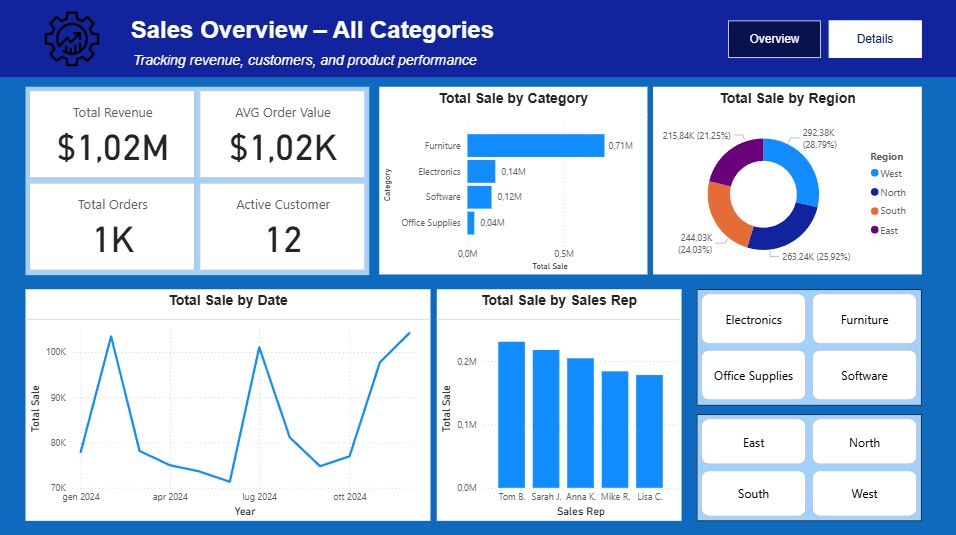

This screenshot's page, from the dashboard's own definition file:
{"tool":"powerbi","page":{"name":"Overview","canvas":[1280,720],"ordinal":0},"visuals":[{"type":"textbox","box":[10,0,280,280],"z":1000},{"type":"shape","box":[0,0,1279.7,106.8],"z":1500},{"type":"shape","box":[0,106.8,1279.7,613.2],"z":2000},{"type":"cardVisual","fields":{"Data":["SalesUS.Total Revenue","SalesUS.AVG Order Value","SalesUS.Total Orders","SalesUS.Total Customer"]},"box":[36.2,117.5,458.8,251.2],"z":3000},{"type":"lineChart","fields":{"Category":["SalesUS.date.Variation.Date Hierarchy.Year","SalesUS.date.Variation.Date Hierarchy.Quarter","SalesUS.date.Variation.Date Hierarchy.Month"],"Y":["Sum(SalesUS.total_sale)"]},"box":[36.2,428.8,540,268.8],"z":4000},{"type":"clusteredBarChart","fields":{"Y":["Sum(SalesUS.total_sale)"],"Category":["SalesUS.category"]},"box":[507.5,155,357.5,213.8],"z":5000},{"type":"donutChart","fields":{"Y":["Sum(SalesUS.total_sale)"],"Category":["SalesUS.region"]},"box":[872.5,155,358.8,213.8],"z":6000},{"type":"clusteredColumnChart","fields":{"Category":["SalesUS.sales_rep"],"Y":["Sum(SalesUS.total_sale)"]},"box":[585,428.8,326.2,268.8],"z":7000},{"type":"advancedSlicerVisual","fields":{"Values":["SalesUS.category"]},"box":[931.2,388.8,300,155],"z":8000},{"type":"advancedSlicerVisual","fields":{"Values":["SalesUS.region"]},"box":[931.2,555,300,142.5],"z":9000},{"type":"textbox","box":[174.6,67.8,479,34.6],"z":10000},{"type":"textbox","box":[585,388.8,326.2,40],"z":11000},{"type":"image","box":[36.1,13,124.1,82.2],"z":12000},{"type":"textbox","box":[36.2,388.8,540,40],"z":13000},{"type":"textbox","box":[507.5,117.5,357.5,37.5],"z":14000},{"type":"textbox","box":[872.5,117.5,358.8,37.5],"z":15000},{"type":"cardVisual","fields":{"Data":["SalesUS.Dynamic Title"]},"box":[160.1,0,526.6,72.1],"z":16000},{"type":"pageNavigator","box":[972.9,30,258.6,50],"z":16003}]}

Visuals, with their boxes in screenshot pixels (x1, y1, x2, y2), scaled from the page's 1280x720 canvas onto the 956x535 screenshot:
textbox: pyautogui.locateOnScreen(7, 0, 217, 208)
shape: pyautogui.locateOnScreen(0, 0, 955, 79)
shape: pyautogui.locateOnScreen(0, 79, 955, 534)
cardVisual - SalesUS.Total Revenue x SalesUS.AVG Order Value: pyautogui.locateOnScreen(27, 87, 370, 274)
lineChart - SalesUS.date.Variation.Date Hierarchy.Year x SalesUS.date.Variation.Date Hierarchy.Quarter: pyautogui.locateOnScreen(27, 319, 430, 518)
clusteredBarChart - Sum(SalesUS.total_sale) x SalesUS.category: pyautogui.locateOnScreen(379, 115, 646, 274)
donutChart - Sum(SalesUS.total_sale) x SalesUS.region: pyautogui.locateOnScreen(652, 115, 920, 274)
clusteredColumnChart - SalesUS.sales_rep x Sum(SalesUS.total_sale): pyautogui.locateOnScreen(437, 319, 681, 518)
advancedSlicerVisual - SalesUS.category: pyautogui.locateOnScreen(695, 289, 920, 404)
advancedSlicerVisual - SalesUS.region: pyautogui.locateOnScreen(695, 412, 920, 518)
textbox: pyautogui.locateOnScreen(130, 50, 488, 76)
textbox: pyautogui.locateOnScreen(437, 289, 681, 319)
image: pyautogui.locateOnScreen(27, 10, 120, 71)
textbox: pyautogui.locateOnScreen(27, 289, 430, 319)
textbox: pyautogui.locateOnScreen(379, 87, 646, 115)
textbox: pyautogui.locateOnScreen(652, 87, 920, 115)
cardVisual - SalesUS.Dynamic Title: pyautogui.locateOnScreen(120, 0, 513, 54)
pageNavigator: pyautogui.locateOnScreen(727, 22, 920, 59)
